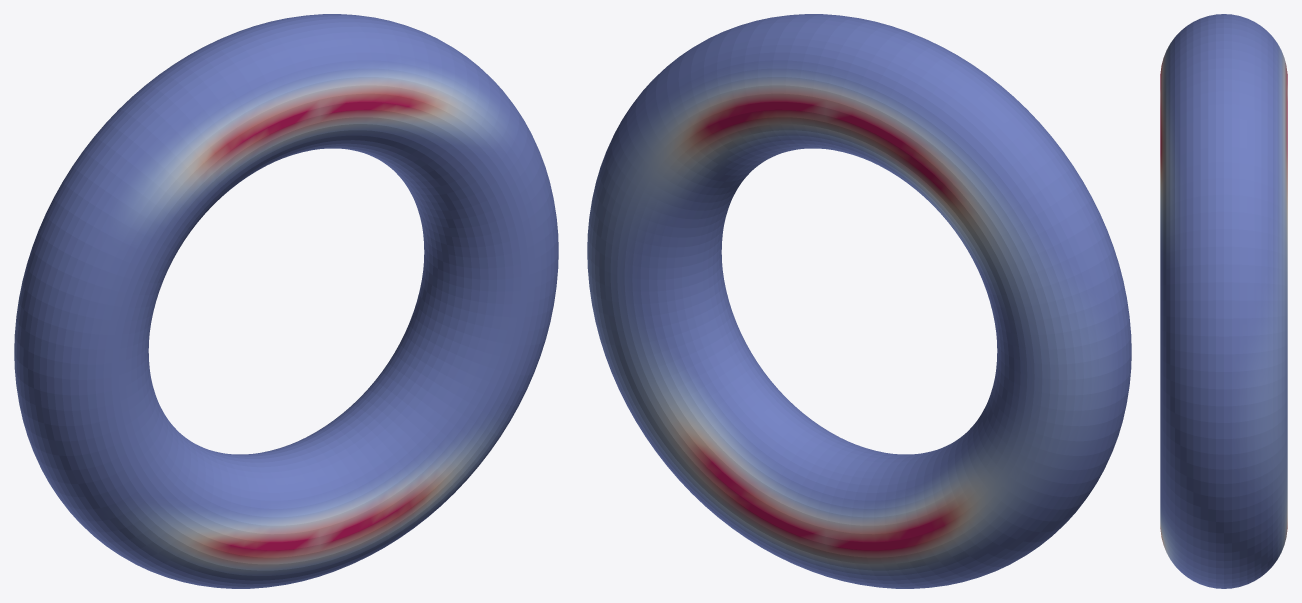
The picture shows the model from 3 angles, left to right: view 1: azimuth 30°, elevation 25°; view 2: azimuth 150°, elevation 25°; view 3: azimuth 270°, elevation 25°; orthographic projection. The views are drawn at different scales.
Visible parts, largest first — view 1: world; view 2: world; view 3: world.
Boxes of the visible parts, <box> form: world: <box>14,14,558,588</box>; world: <box>587,14,1131,588</box>; world: <box>1160,14,1287,588</box>.
Size of the model in its own units: 16.27 by 16.27 by 3.59.
